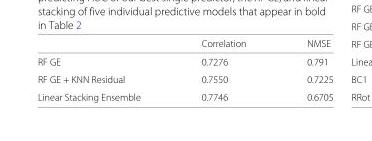table: (36, 37, 332, 102)
table column: (36, 37, 170, 102), (170, 37, 275, 102), (275, 37, 332, 102)
table column header: (36, 37, 332, 52)
table row: (36, 52, 332, 70), (36, 70, 332, 87), (36, 37, 332, 52), (36, 87, 332, 102)
